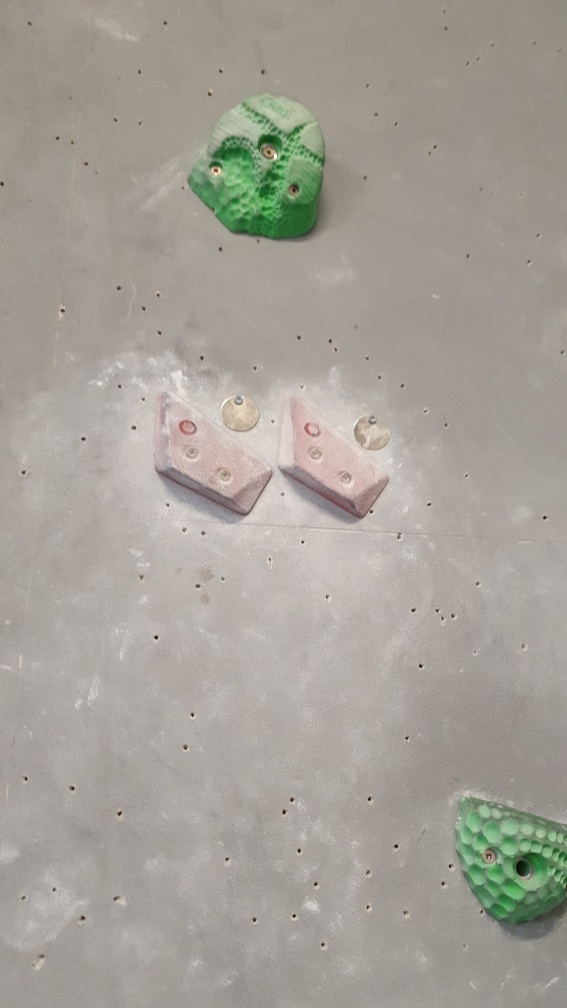Crimp: (151, 391, 275, 518), (276, 395, 393, 520)
Hand Start: (353, 409, 395, 452), (220, 393, 261, 435)
Jug: (187, 92, 326, 243)
